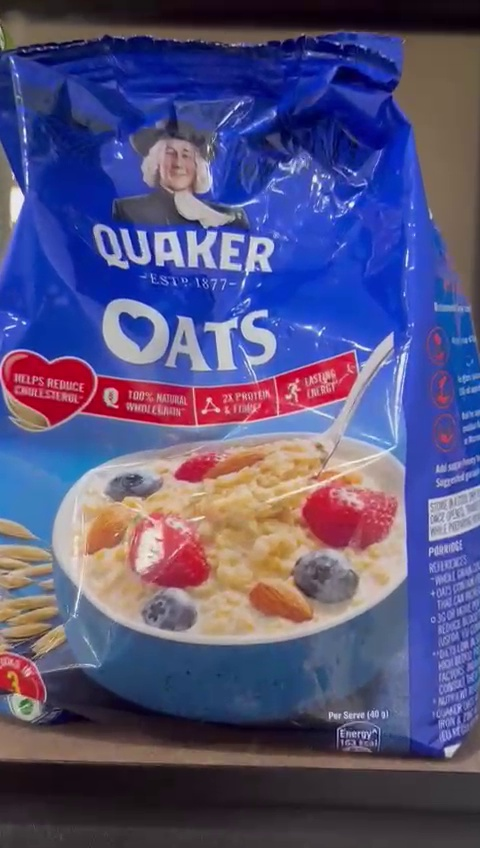Quaker Oats: (0, 30, 480, 766)
